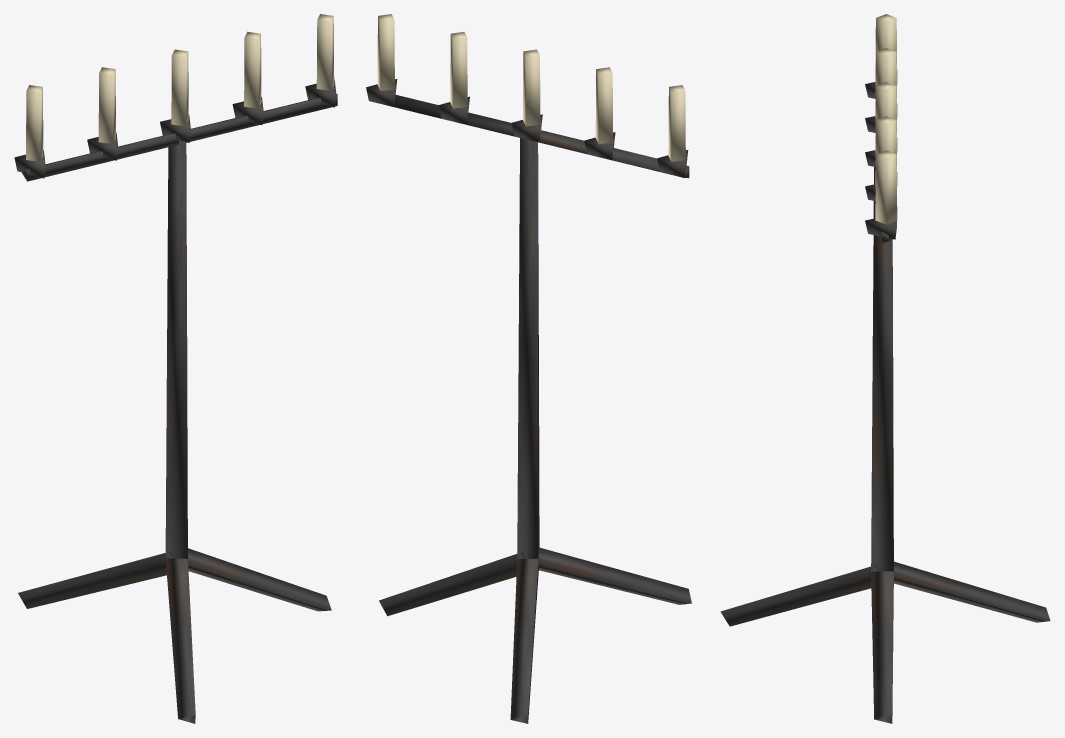
The model's file is CandleStick_Stand_LOD2.gltf.
The picture shows the model from 3 angles, left to right: view 1: azimuth 30°, elevation 25°; view 2: azimuth 150°, elevation 25°; view 3: azimuth 270°, elevation 25°; orthographic projection. The views are drawn at different scales.
Visible parts, largest first — view 1: CandleStick_Stand_LOD2; view 2: CandleStick_Stand_LOD2; view 3: CandleStick_Stand_LOD2.
Boxes of the visible parts, bbox=[...] form: CandleStick_Stand_LOD2: bbox=[14, 14, 337, 723]; CandleStick_Stand_LOD2: bbox=[366, 14, 691, 723]; CandleStick_Stand_LOD2: bbox=[720, 14, 1050, 723].
Bounding box in the file's own units: 0.7296 × 1.29 × 0.6779.
Materials: 2 (2 with a texture image).
